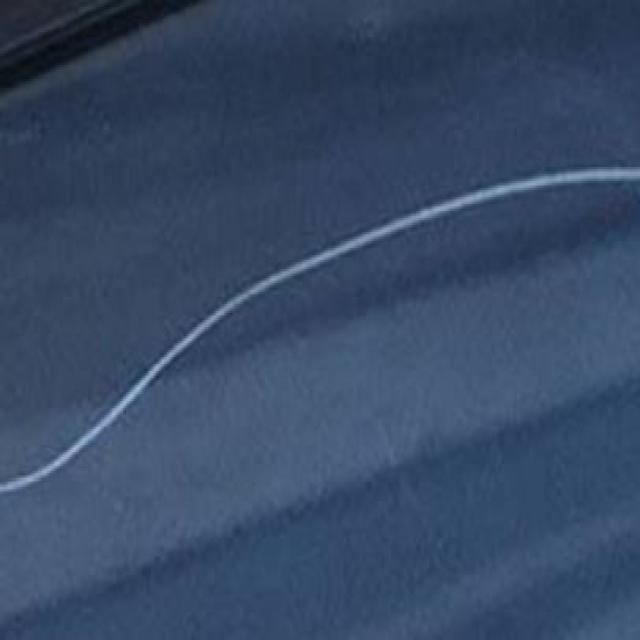scratch: (2, 155, 630, 501)
